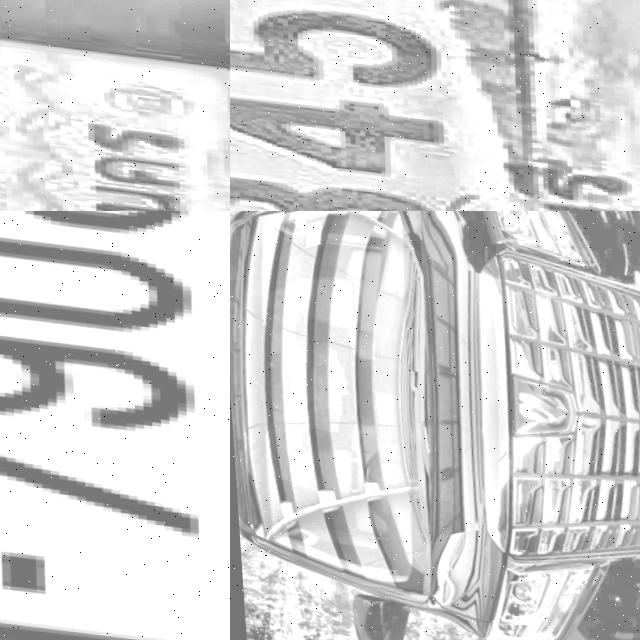license-plate: (0, 211, 230, 640), (230, 0, 640, 211), (0, 0, 230, 211)
